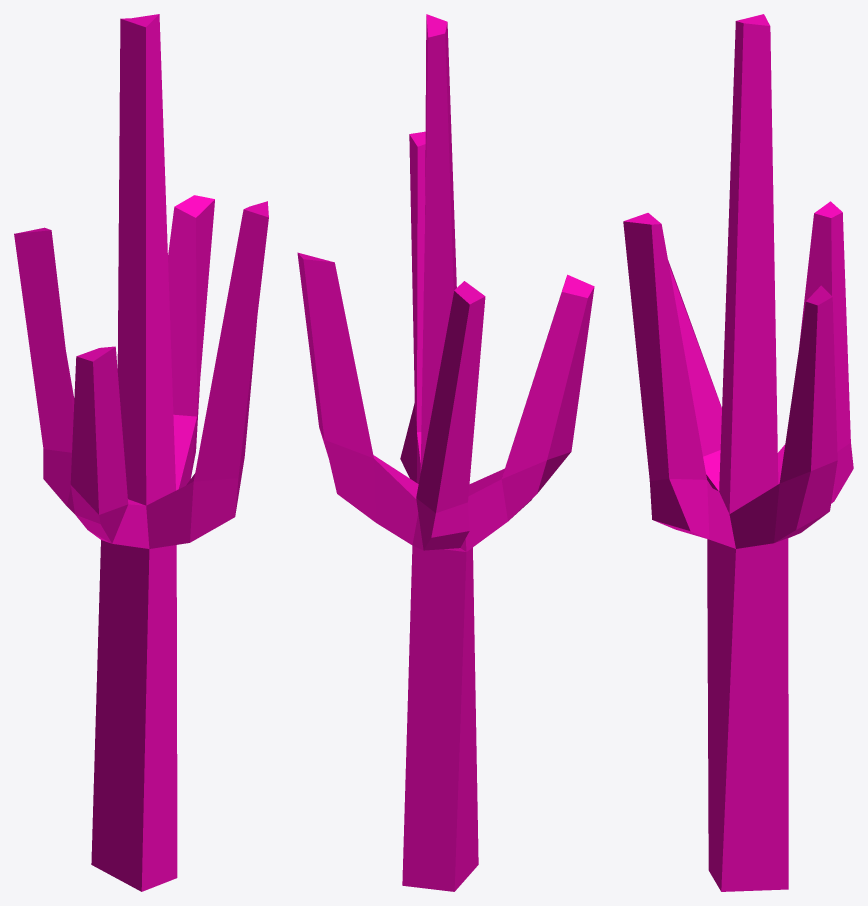
File: cactus.glb
3 views of the same model, side by side, from view 1: azimuth 30°, elevation 25°; view 2: azimuth 150°, elevation 25°; view 3: azimuth 270°, elevation 25° (orthographic).
Parts seen in each view (by area): view 1: Cube.003; view 2: Cube.003; view 3: Cube.003.
Boxes of the visible parts, bbox=[...] form: Cube.003: bbox=[14, 14, 268, 891]; Cube.003: bbox=[297, 14, 594, 891]; Cube.003: bbox=[623, 14, 853, 891].
Size of the model in its own units: 1.49 by 5.67 by 1.37.
